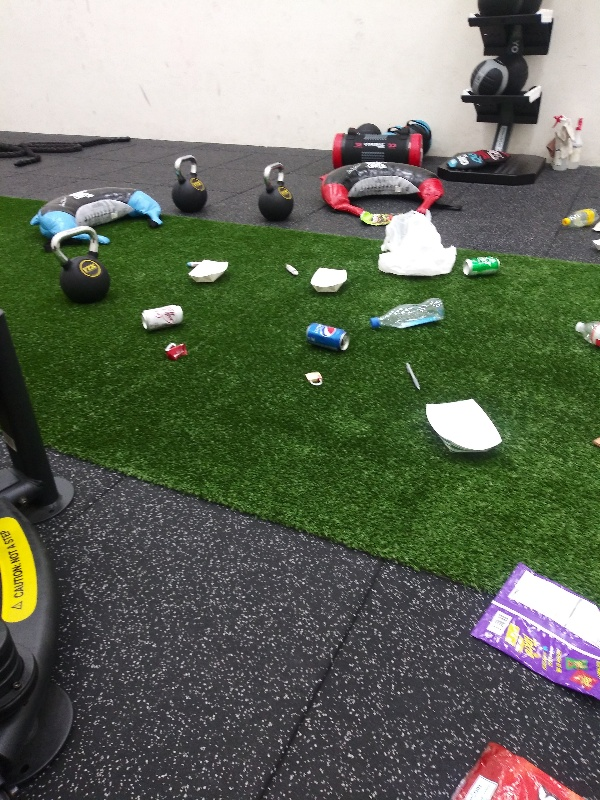bag: (463, 559, 600, 710), (442, 737, 598, 800), (357, 207, 394, 225)
bottle: (369, 296, 449, 333), (557, 203, 600, 231), (569, 316, 600, 348)
can: (304, 320, 353, 354), (141, 301, 187, 335), (462, 252, 505, 278)
plate: (420, 398, 505, 459), (183, 258, 232, 287), (309, 264, 352, 297)
